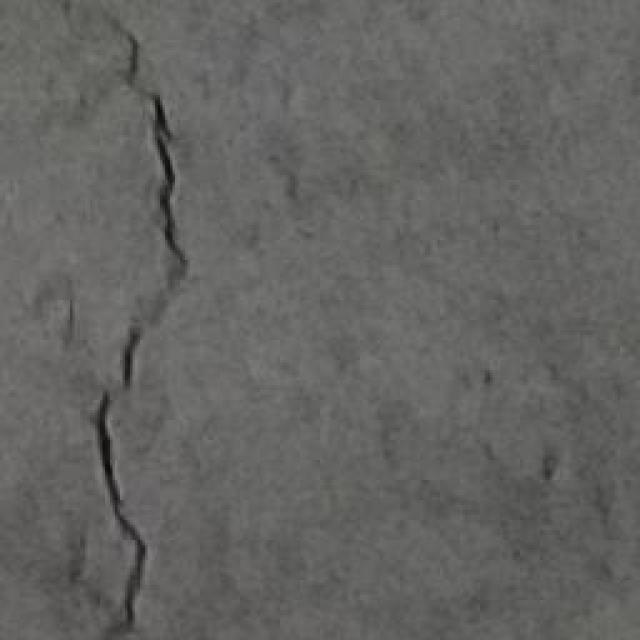Radial: (42, 15, 213, 635)
